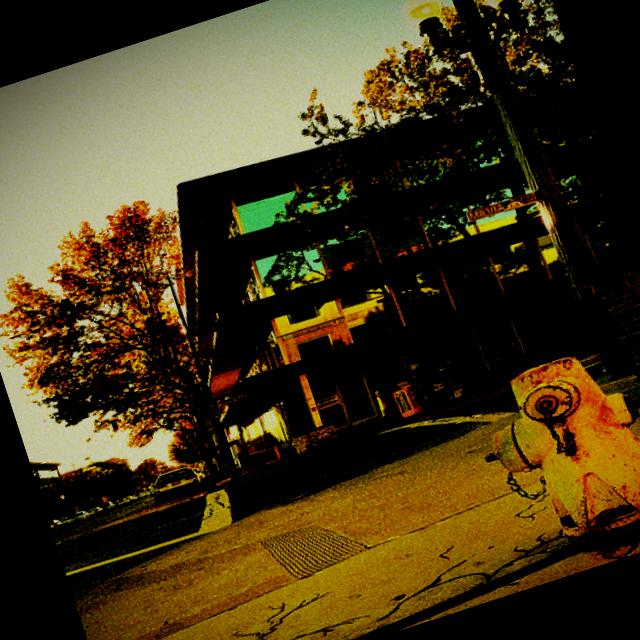Vehicle: (146, 462, 209, 504), (50, 514, 71, 530), (74, 507, 92, 524), (101, 499, 118, 512), (87, 505, 104, 516)
